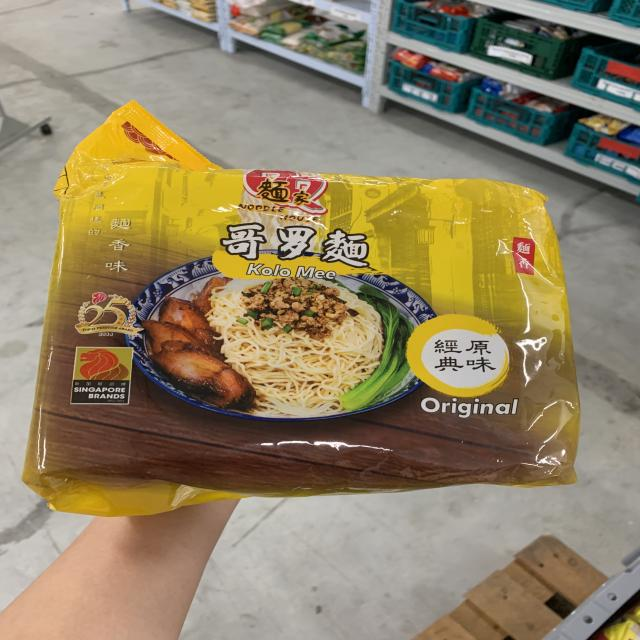object_name: (59, 174, 574, 488)
